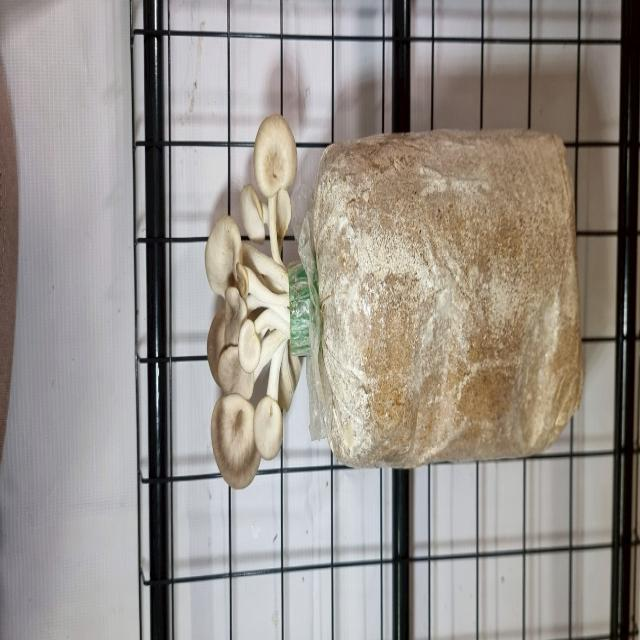normal: (203, 104, 305, 496)
